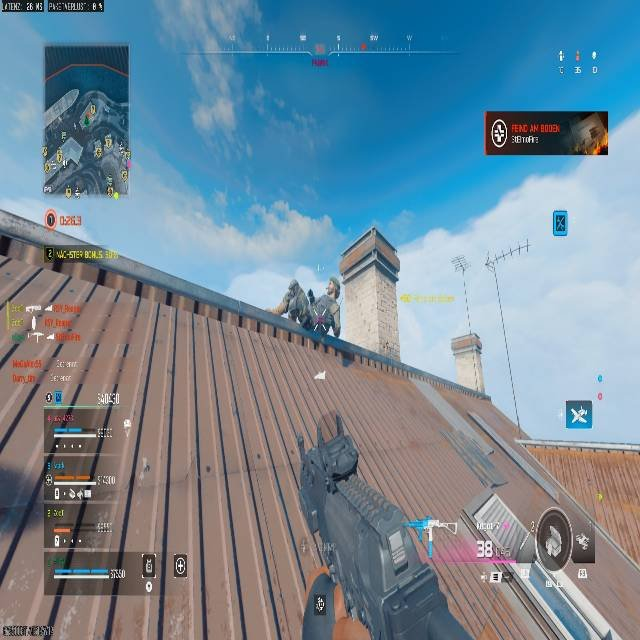head: (327, 278, 338, 289)
player: (318, 277, 341, 338)
